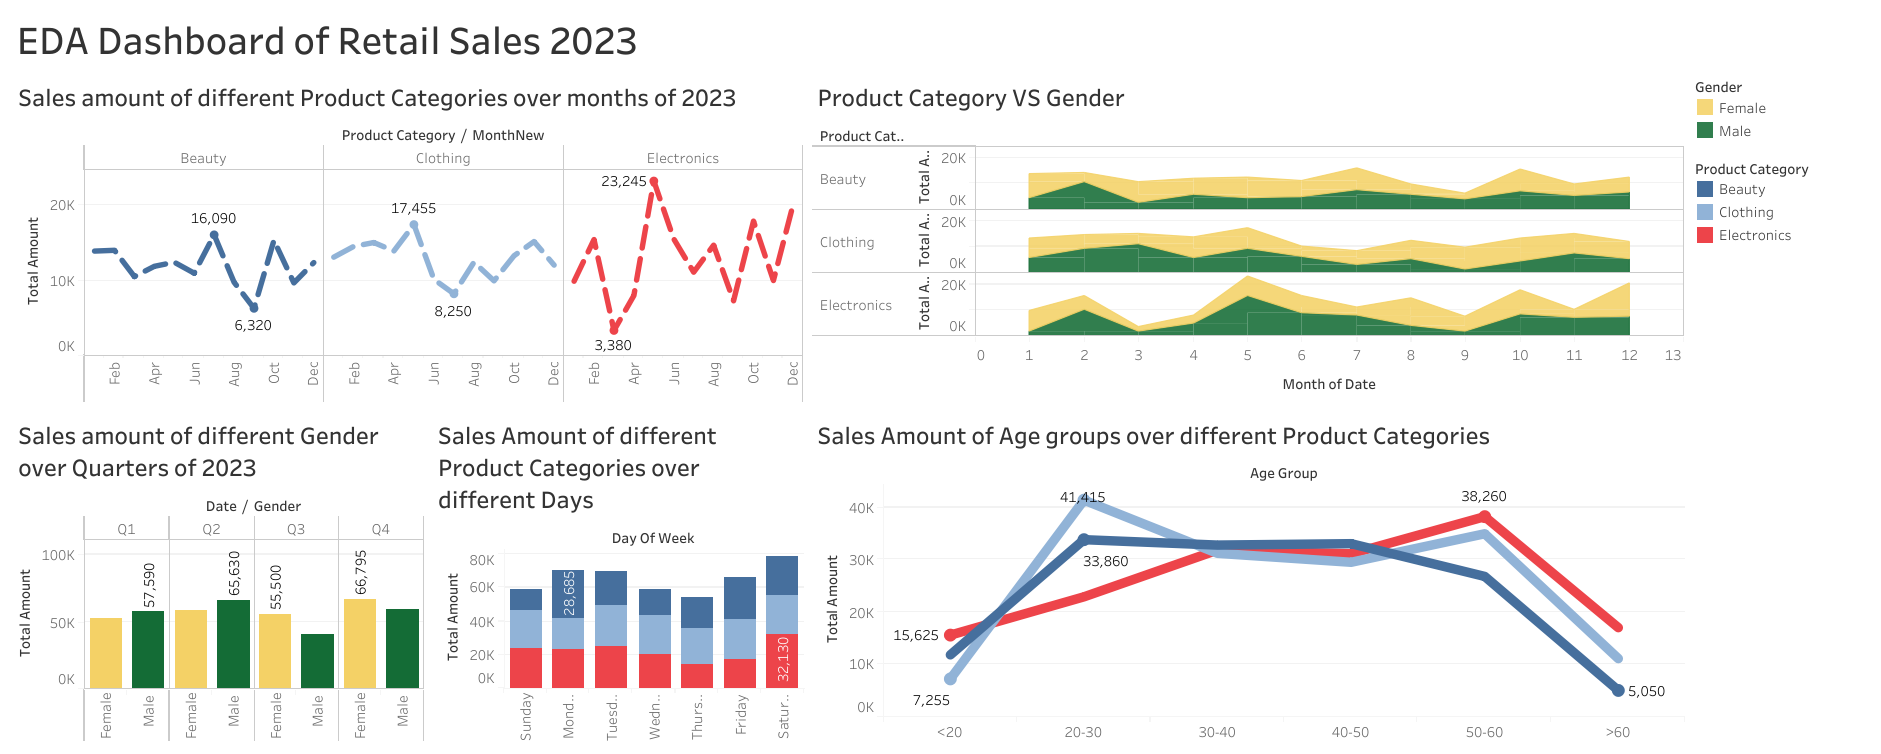

What the dashboard file says about the page in this screenshot:
{"tool":"tableau","page":{"name":"EDA Dashboard of Retail Sales 2023","canvas":[1000,1000],"units":"permille","ordinal":0},"visuals":[{"type":"title","box":[4.7,9.4,990.6,60.9]},{"type":"worksheet","title":"Sales amount of different Product Categories over months of 2023","mark":"Line","rows":["Total Amount"],"cols":["Product Category","Calculation_777152444564795392"],"box":[4.7,70.3,427,460]},{"type":"worksheet","title":"Product Category VS Gender ","mark":"Area","rows":["Product Category","Total Amount"],"cols":["Date"],"box":[431.7,70.3,470.1,460]},{"type":"legend","title":"Product Category VS Gender ","param":"[federated.0smhemk0y8hk1a1h4t29t13yo9gk].[none:Gender:nk]","box":[901.7,70.3,93.6,83.1]},{"type":"legend","title":"Sales Amount of different Product Categories over different Days","param":"[federated.0smhemk0y8hk1a1h4t29t13yo9gk].[none:Product Category:nk]","box":[901.7,153.4,93.6,837.2]},{"type":"worksheet","title":"Sales amount of different Gender over Quarters of 2023","mark":"Bar","rows":["Total Amount"],"cols":["Date","Gender"],"box":[4.7,530.2,224.1,460.4]},{"type":"worksheet","title":"Sales Amount of different Product Categories over different Days","mark":"Automatic","rows":["Total Amount"],"cols":["DayOfWeek"],"box":[228.7,530.2,202.9,460.4]},{"type":"worksheet","title":"Sales Amount of Age groups over different Product Categories","mark":"Line","rows":["Total Amount"],"cols":["AgeGroup"],"box":[431.6,530.2,470.1,460.4]}]}

Visuals, with their boxes on the dashboard's canvas, which has no fixed pixel size, in thousandths of its width and height (x1, y1, x2, y2). These are canvas units, not pixel positions in the 1881x754 screenshot, which may show the page scaled, cropped or inside an application window:
title: [5,9,995,70]
"Sales amount of different Product Categories over months of 2023" worksheet (Line marks): [5,70,432,530]
"Product Category VS Gender " worksheet (Area marks): [432,70,902,530]
"Product Category VS Gender " legend: [902,70,995,153]
"Sales Amount of different Product Categories over different Days" legend: [902,153,995,991]
"Sales amount of different Gender over Quarters of 2023" worksheet (Bar marks): [5,530,229,991]
"Sales Amount of different Product Categories over different Days" worksheet: [229,530,432,991]
"Sales Amount of Age groups over different Product Categories" worksheet (Line marks): [432,530,902,991]
